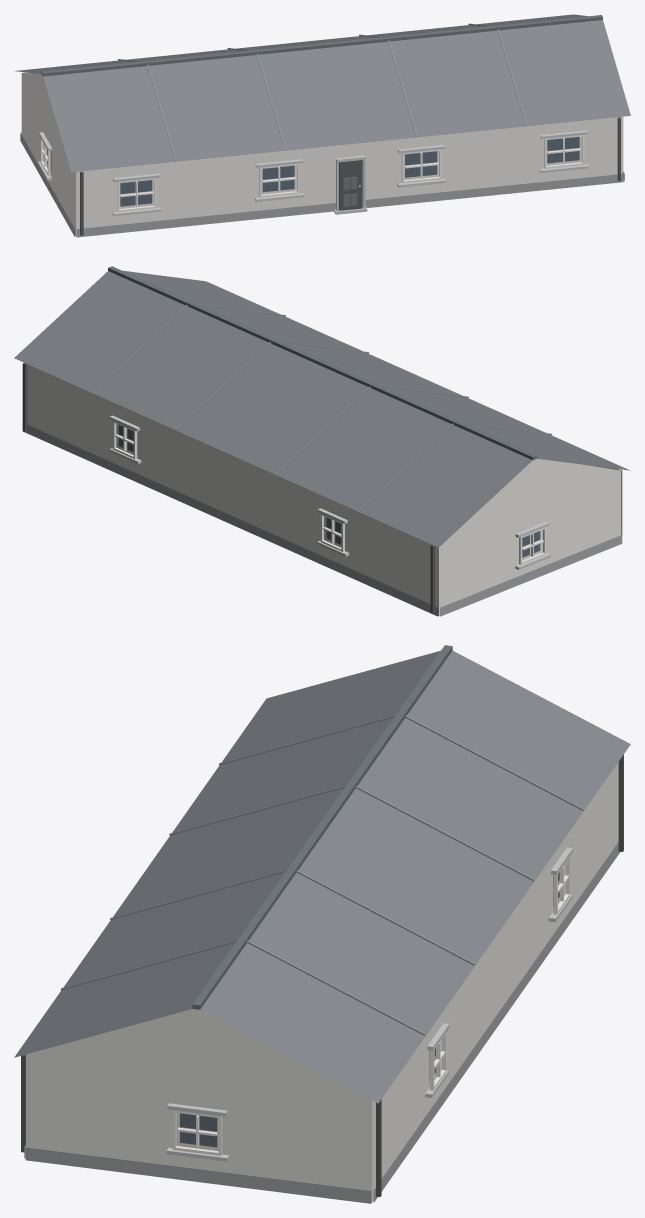
3 views of the same model, one above another, from view 1: azimuth 30°, elevation 25°; view 2: azimuth 150°, elevation 25°; view 3: azimuth 270°, elevation 25° (orthographic). The views are drawn at different scales.
Visible parts, largest first — view 1: slate, harl, plinth, slate_dk, stone_band, frame, slate_lt, door_dark, pipe, door_dark_p; view 2: slate, harl, plinth, slate_dk, slate_lt, frame, stone_band, pipe; view 3: slate, harl, plinth, slate_lt, slate_dk, frame, stone_band, pipe.
Part boxes in pixels (x1,y1,x2,y2): slate: (15, 14, 630, 172); harl: (21, 72, 623, 236); plinth: (20, 132, 624, 237); slate_dk: (42, 15, 602, 76); stone_band: (37, 130, 588, 216); frame: (40, 135, 584, 212); slate_lt: (118, 23, 526, 161); door_dark: (339, 160, 362, 210); pipe: (80, 117, 620, 235); door_dark_p: (343, 177, 357, 206); slate: (14, 270, 629, 547); harl: (27, 364, 621, 616); plinth: (22, 424, 622, 616); slate_dk: (108, 266, 536, 460); slate_lt: (93, 304, 551, 511); frame: (112, 421, 546, 564); stone_band: (109, 415, 550, 569); pipe: (22, 363, 622, 613); slate: (14, 650, 630, 1103); harl: (26, 762, 618, 1202); plinth: (24, 842, 619, 1203); slate_lt: (60, 715, 584, 1035); slate_dk: (192, 645, 452, 1009); frame: (172, 856, 570, 1155); stone_band: (166, 847, 572, 1161); pipe: (21, 754, 623, 1196).
Size of the model in its own units: 23.69 by 4.94 by 15.24.
